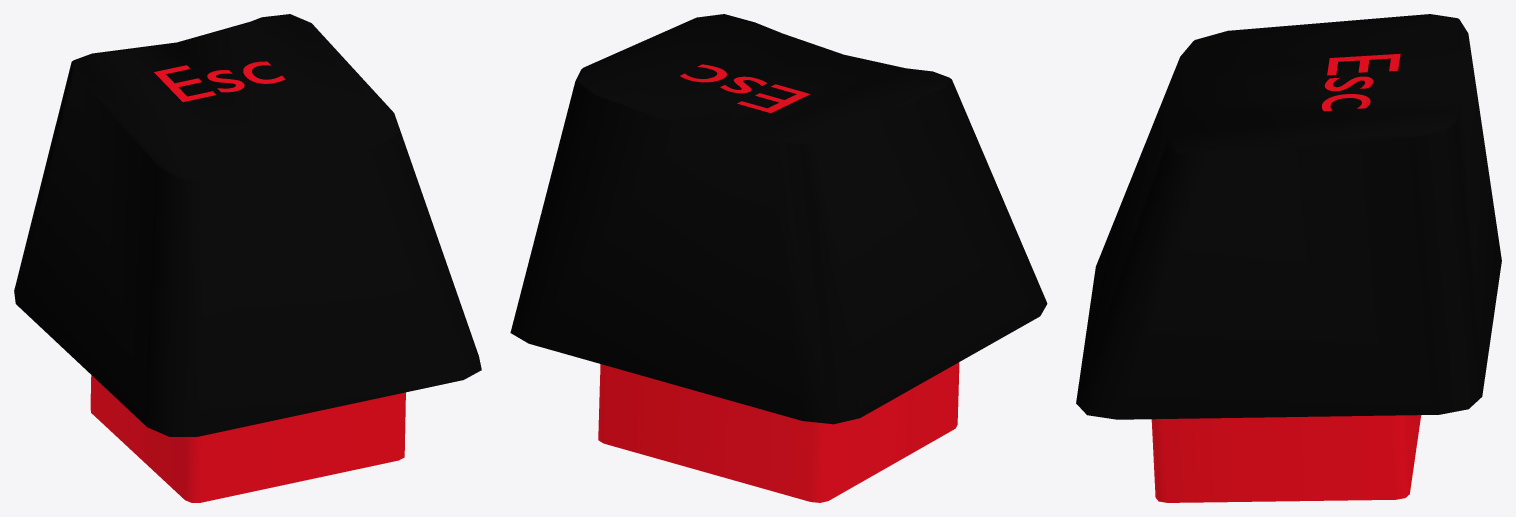
File: esc-g-y9OE2x.glb
3 views of the same model, side by side, from view 1: azimuth 30°, elevation 25°; view 2: azimuth 150°, elevation 25°; view 3: azimuth 270°, elevation 25° (orthographic). The views are drawn at different scales.
Parts seen in each view (by area): view 1: StudyShelf_1099; view 2: StudyShelf_1099; view 3: StudyShelf_1099.
Part boxes in pixels (x1,y1,x2,y2): StudyShelf_1099: (14,14,481,502); StudyShelf_1099: (510,14,1047,502); StudyShelf_1099: (1076,14,1501,502).
Size of the model in its own units: 4.35 by 4.28 by 4.35.
2 materials, 1 textured.
